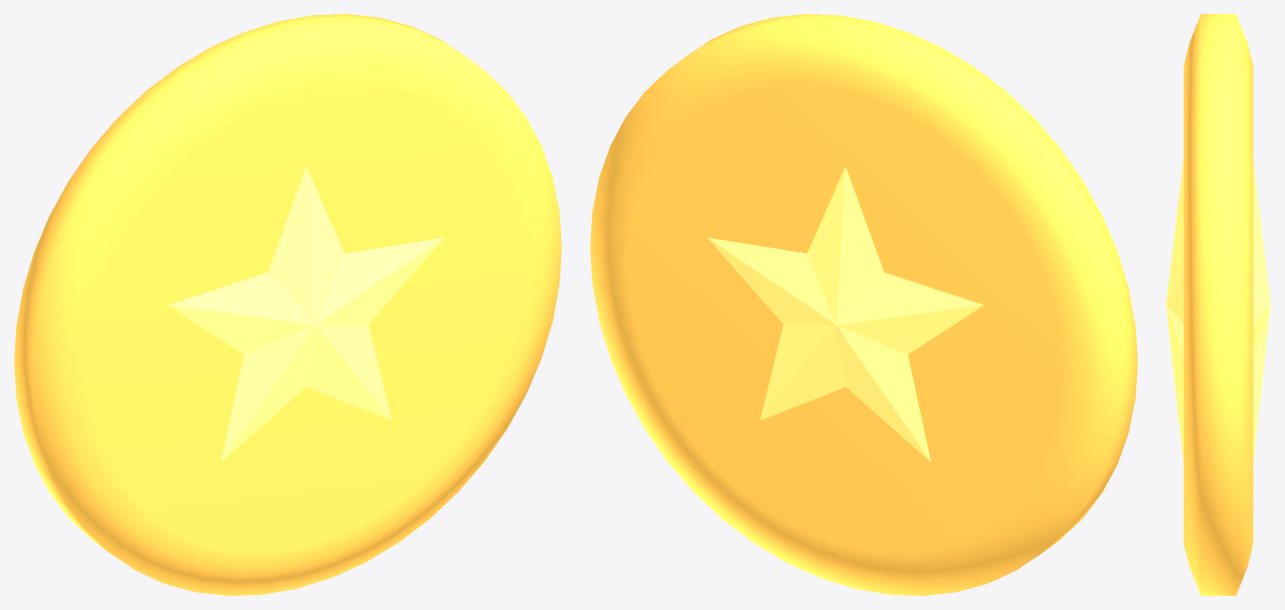
The model's file is coin.glb.
The picture shows the model from 3 angles, left to right: view 1: azimuth 30°, elevation 25°; view 2: azimuth 150°, elevation 25°; view 3: azimuth 270°, elevation 25°; orthographic projection. The views are drawn at different scales.
Parts seen in each view (by area): view 1: coin; view 2: coin; view 3: coin.
Boxes of the visible parts, <box> form: coin: <box>14,14,561,595</box>; coin: <box>590,14,1137,595</box>; coin: <box>1166,14,1270,595</box>.
Size of the model in its own units: 2 by 2 by 0.36.
